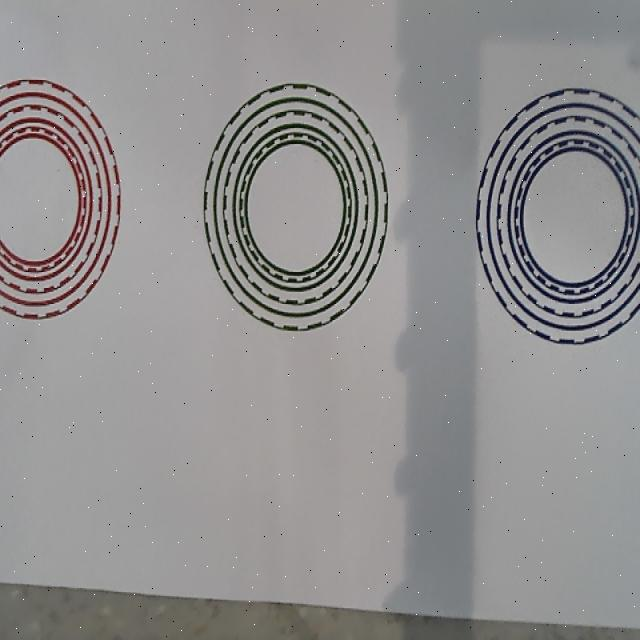g: (202, 84, 388, 332)
